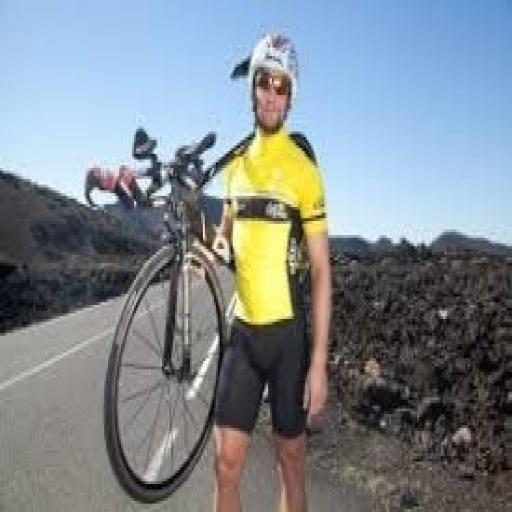cycling: (207, 28, 335, 509)
